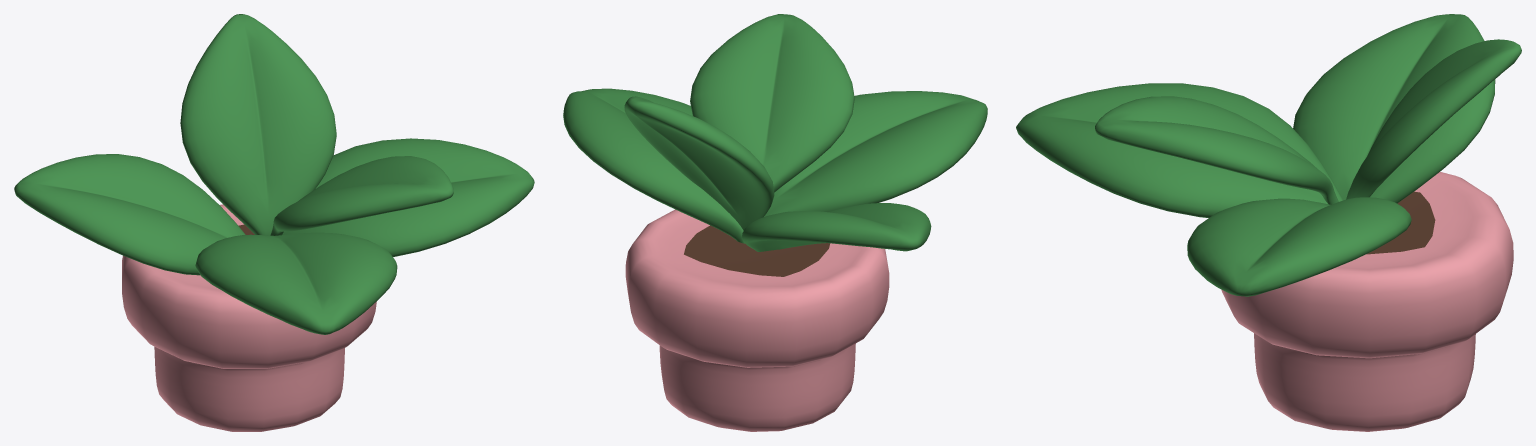
Rendered from big plant.glb.
The picture shows the model from 3 angles, left to right: view 1: azimuth 30°, elevation 25°; view 2: azimuth 150°, elevation 25°; view 3: azimuth 270°, elevation 25°; orthographic projection. The views are drawn at different scales.
Parts seen in each view (by area): view 1: Plane.010; view 2: Plane.010; view 3: Plane.010.
Boxes of the visible parts, bbox=[...] form: Plane.010: bbox=[14, 14, 534, 431]; Plane.010: bbox=[563, 14, 987, 431]; Plane.010: bbox=[1016, 14, 1521, 431].
Bounding box in the file's own units: 0.2663 × 0.1966 × 0.2328.
